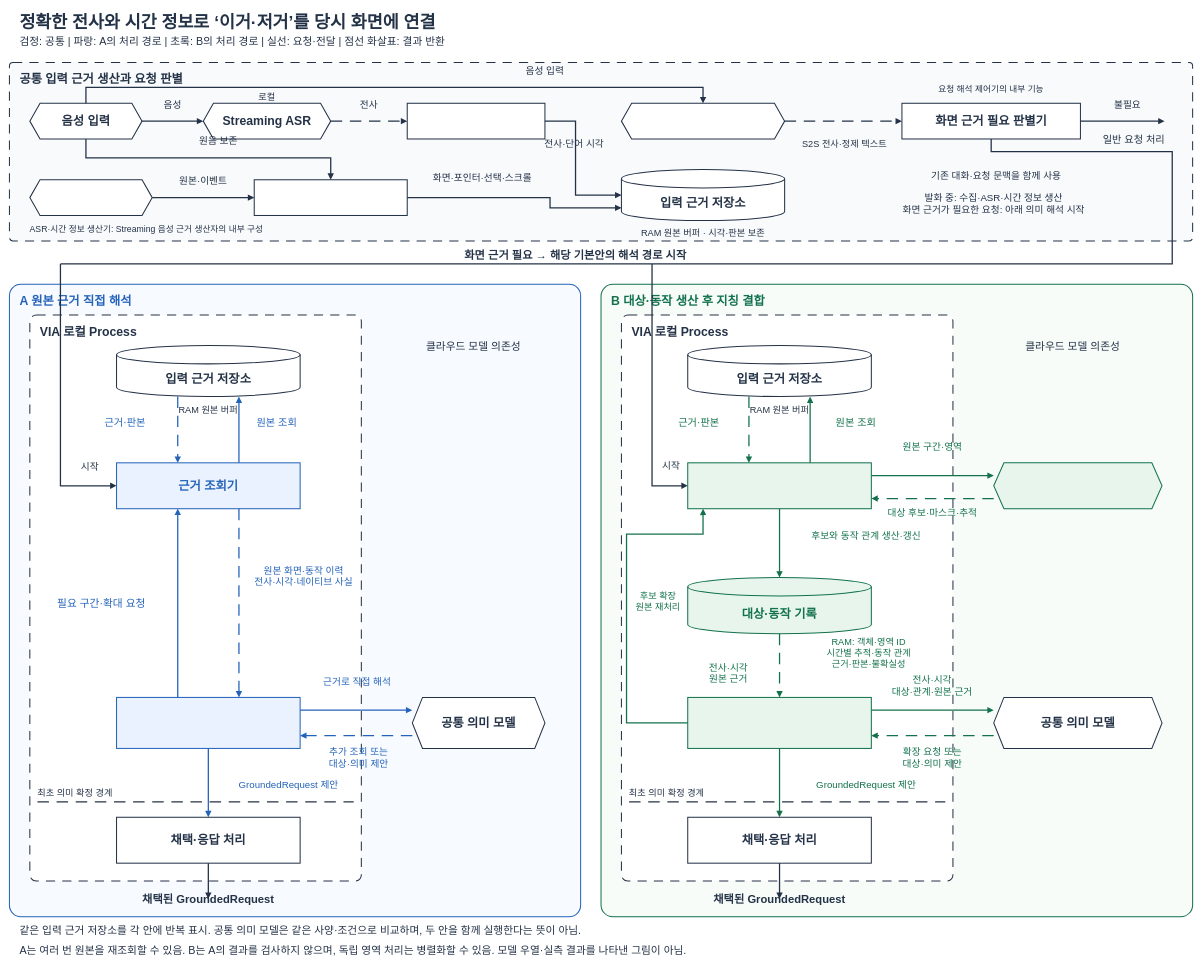
The diagram is 1202 pixels wide and 968 high, and some of its shapes have lost their labels. Here are the shapes that lost their labels. From the top down, the centre of each, then its label:
At (x=475, y=121): "시간 정보 생산기".
At (x=703, y=121): "클라우드 S2S".
At (x=90, y=197): "화면·마우스 입력".
At (x=330, y=197): "입력 근거 기록기".
At (x=779, y=485): "화면 대상 생산기".
At (x=1077, y=485): "전문 검출·분할·추적 모델".
At (x=208, y=723): "직접 지칭 해석기".
At (x=779, y=723): "지칭 결합기".
